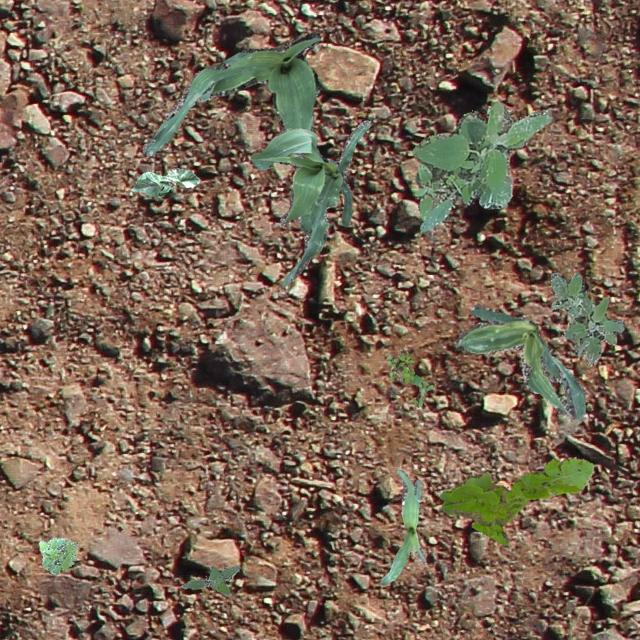crop: (142, 31, 320, 156), (250, 120, 370, 286), (454, 304, 584, 420), (380, 468, 426, 584), (130, 168, 198, 196)
weed: (412, 100, 552, 232), (438, 456, 594, 544), (550, 272, 624, 366), (384, 348, 432, 406), (180, 564, 240, 594), (38, 536, 76, 574)
